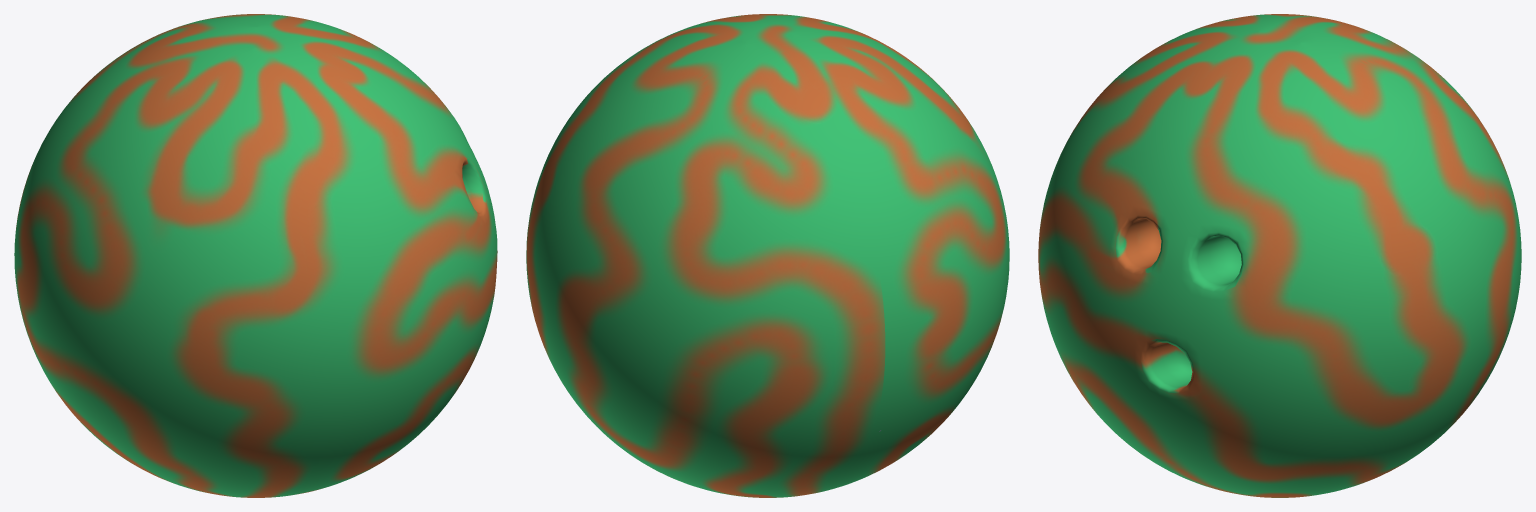
Rendered from boladeboloss.fbx.
3 renders of one model, left to right at view 1: azimuth 30°, elevation 25°; view 2: azimuth 150°, elevation 25°; view 3: azimuth 270°, elevation 25°, orthographic.
Visible parts, largest first — view 1: Sphere; view 2: Sphere; view 3: Sphere.
Part boxes in pixels (box(x1,y1,x2,y2)): Sphere: box(14, 14, 497, 497); Sphere: box(526, 14, 1009, 497); Sphere: box(1038, 14, 1521, 497).
Size of the model in its own units: 199 by 199 by 199.
1 material, 1 textured.
